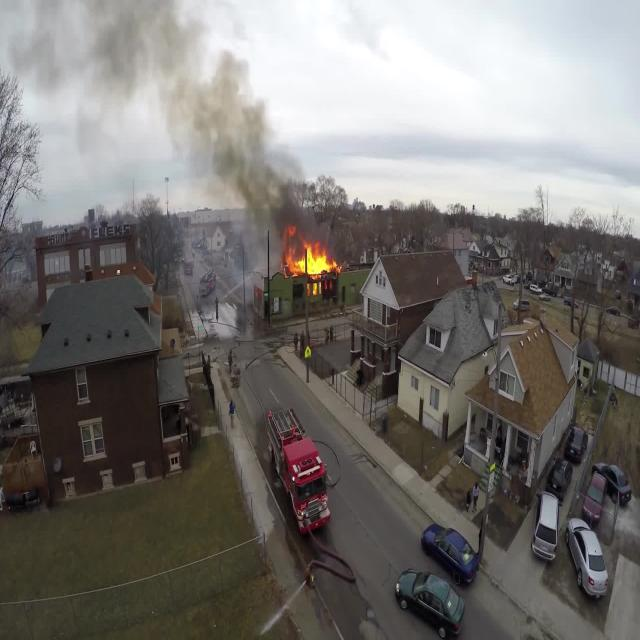Fire: (282, 216, 342, 297)
Smoke: (164, 62, 330, 242)
